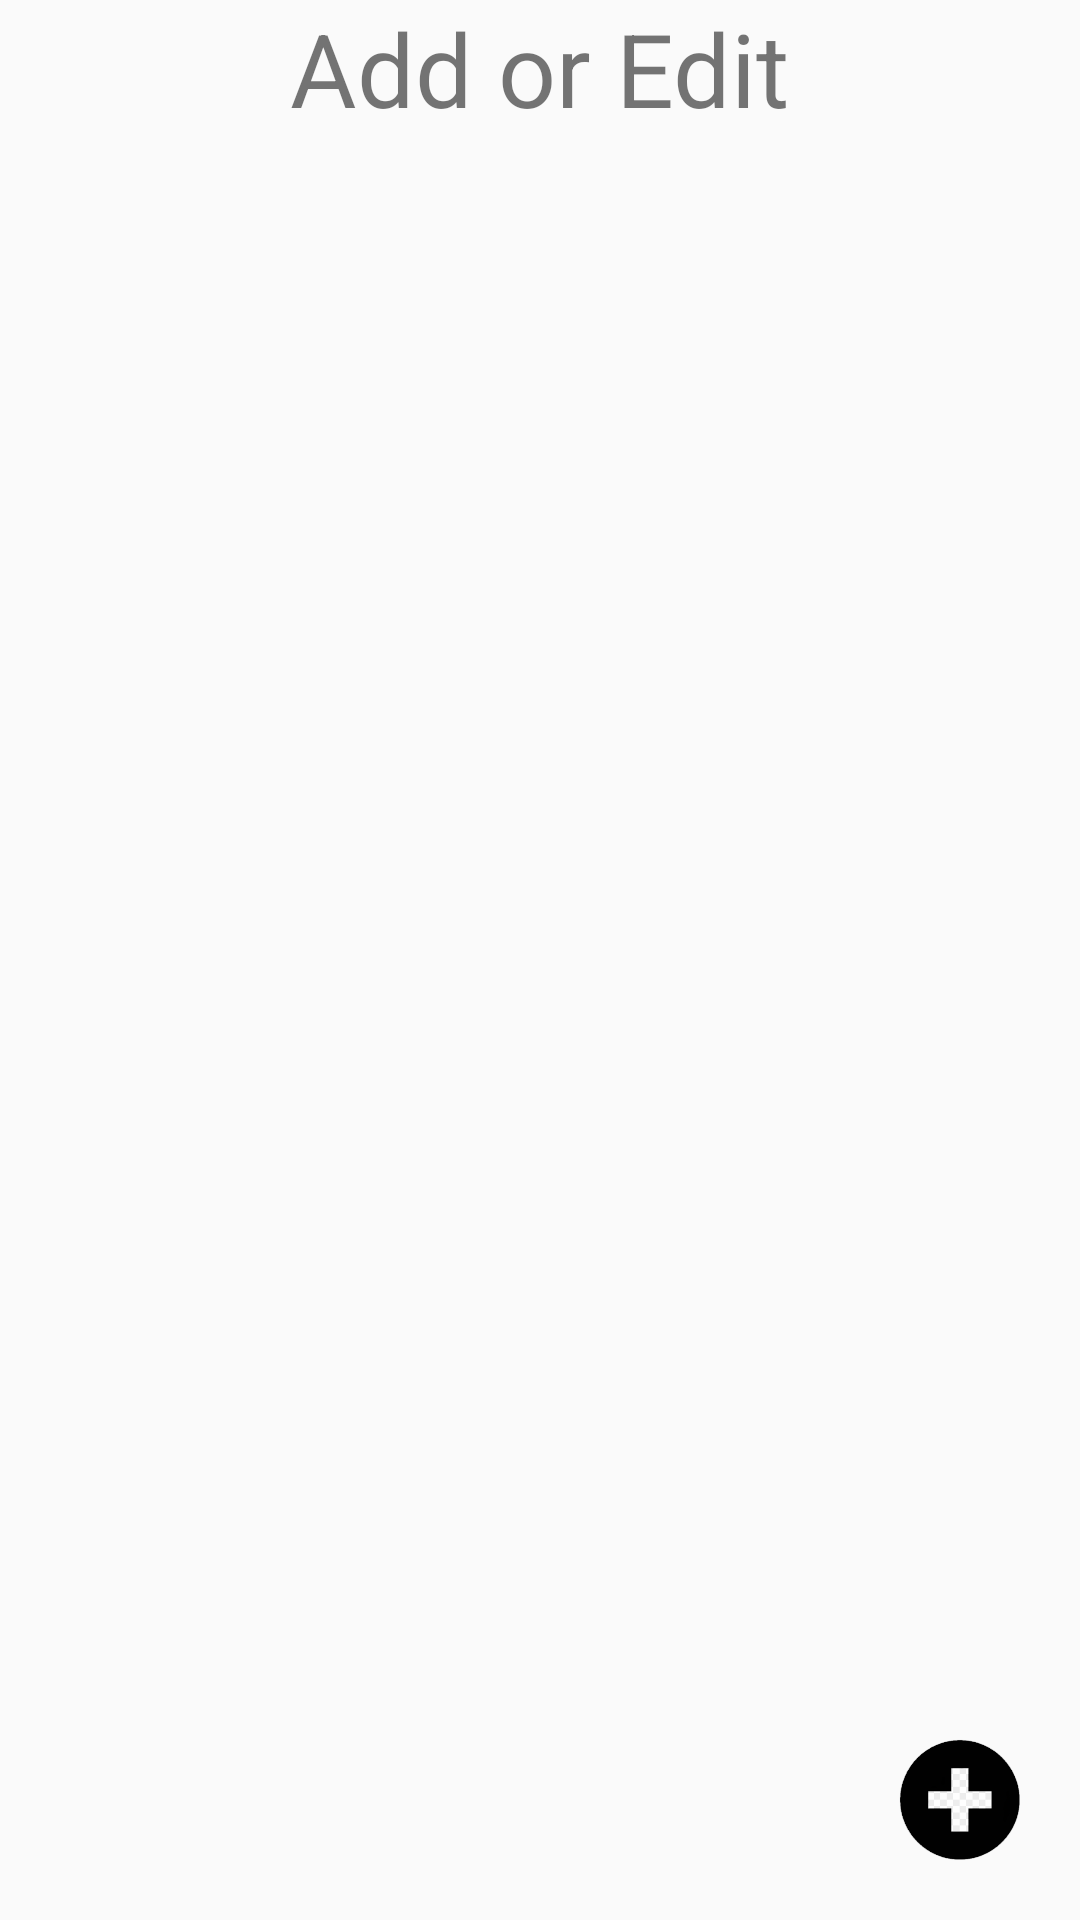

Icons on this 1080x1920 Android screen, each with the point to tap as (x,y):
addicon: (960,1800)
